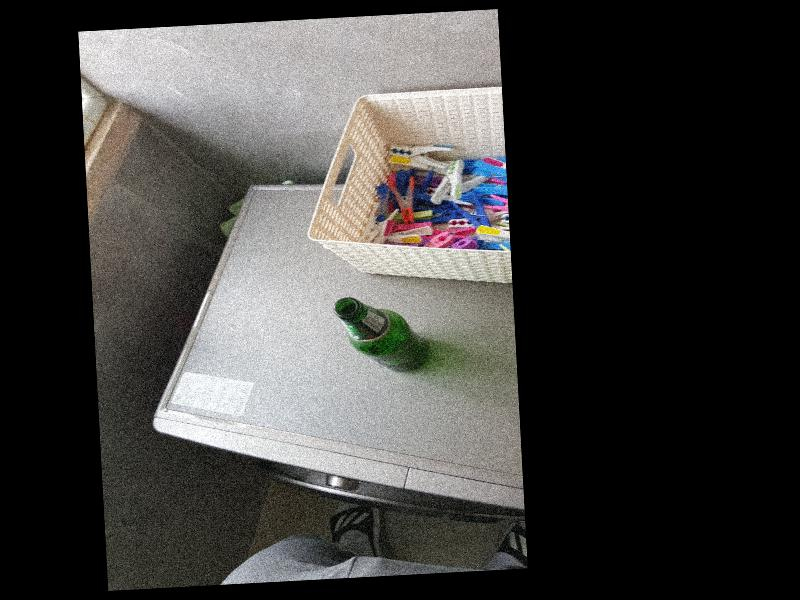Beer: (332, 294, 429, 376)
